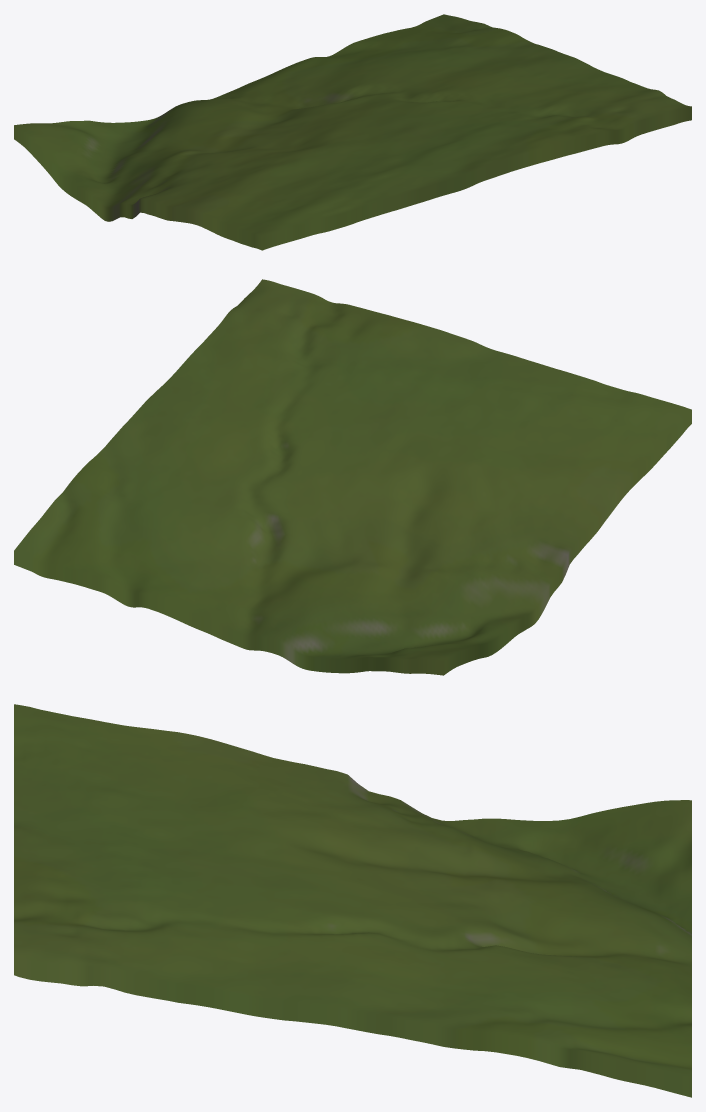
File: terrain_9_-9.glb
3 views of the same model, one above another, from view 1: azimuth 30°, elevation 25°; view 2: azimuth 150°, elevation 25°; view 3: azimuth 270°, elevation 25° (orthographic). The views are drawn at different scales.
Parts seen in each view (by area): view 1: terrain_9_-9; view 2: terrain_9_-9; view 3: terrain_9_-9.
Boxes of the visible parts, box(x1,y1,x2,y2) form: terrain_9_-9: box(14, 14, 691, 250); terrain_9_-9: box(14, 279, 691, 675); terrain_9_-9: box(14, 704, 691, 1097).
Size of the model in its own units: 256 by 78.5 by 256.
